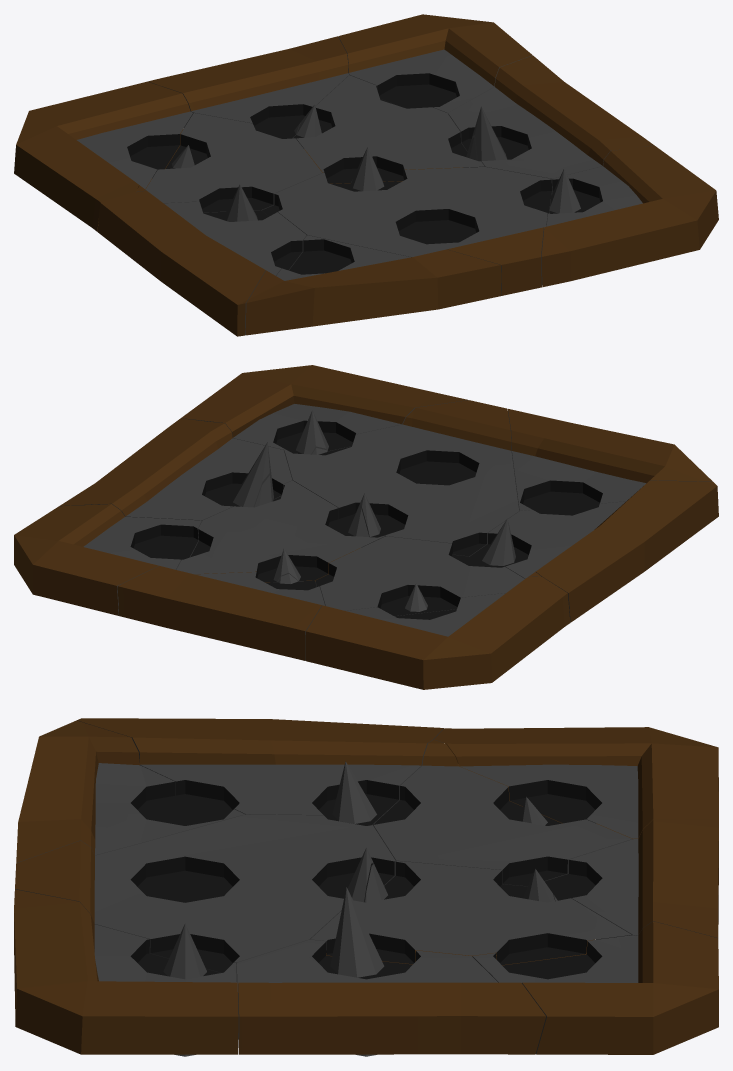
The model's file is Spikes_fragments.fbx.
3 renders of one model, top to bottom at view 1: azimuth 30°, elevation 25°; view 2: azimuth 150°, elevation 25°; view 3: azimuth 270°, elevation 25°, orthographic. The views are drawn at different scales.
Parts seen in each view (by area): view 1: Cube.006_cell, Cube.006_cell.001, Cube.006_cell.008, Cube.006_cell.009, Cube.006_cell.004, Cube.006_cell.007, Cube.006_cell.002, Cube.006_cell.003, Cube.006_cell.005, Cube.006_cell.006; view 2: Cube.006_cell, Cube.006_cell.009, Cube.006_cell.008, Cube.006_cell.001, Cube.006_cell.007, Cube.006_cell.002, Cube.006_cell.004, Cube.006_cell.006, Cube.006_cell.003, Cube.006_cell.005; view 3: Cube.006_cell, Cube.006_cell.007, Cube.006_cell.001, Cube.006_cell.008, Cube.006_cell.009, Cube.006_cell.002, Cube.006_cell.003, Cube.006_cell.005, Cube.006_cell.004, Cube.006_cell.006.
Part boxes in pixels (bbox=[...]): Cube.006_cell: bbox=[261, 147, 552, 295]; Cube.006_cell.001: bbox=[541, 145, 718, 287]; Cube.006_cell.008: bbox=[97, 184, 306, 336]; Cube.006_cell.009: bbox=[14, 81, 192, 231]; Cube.006_cell.004: bbox=[245, 235, 501, 335]; Cube.006_cell.007: bbox=[448, 55, 653, 191]; Cube.006_cell.002: bbox=[338, 14, 532, 113]; Cube.006_cell.003: bbox=[293, 75, 484, 183]; Cube.006_cell.005: bbox=[136, 113, 322, 212]; Cube.006_cell.006: bbox=[148, 36, 348, 138]; Cube.006_cell: bbox=[284, 400, 519, 556]; Cube.006_cell.009: bbox=[306, 576, 570, 689]; Cube.006_cell.008: bbox=[470, 480, 718, 622]; Cube.006_cell.001: bbox=[181, 365, 468, 454]; Cube.006_cell.007: bbox=[59, 418, 292, 520]; Cube.006_cell.002: bbox=[14, 504, 201, 615]; Cube.006_cell.004: bbox=[508, 409, 712, 515]; Cube.006_cell.006: bbox=[117, 566, 324, 660]; Cube.006_cell.003: bbox=[176, 475, 384, 582]; Cube.006_cell.005: bbox=[315, 536, 540, 616]; Cube.006_cell: bbox=[15, 814, 395, 972]; Cube.006_cell.007: bbox=[236, 887, 546, 1056]; Cube.006_cell.001: bbox=[14, 889, 238, 1056]; Cube.006_cell.008: bbox=[77, 718, 443, 825]; Cube.006_cell.009: bbox=[434, 727, 718, 839]; Cube.006_cell.002: bbox=[472, 921, 718, 1054]; Cube.006_cell.003: bbox=[311, 861, 631, 965]; Cube.006_cell.005: bbox=[373, 739, 632, 886]; Cube.006_cell.004: bbox=[16, 720, 244, 862]; Cube.006_cell.006: bbox=[544, 819, 718, 939].
Bounding box in the file's own units: 200 × 42.89 × 200.
